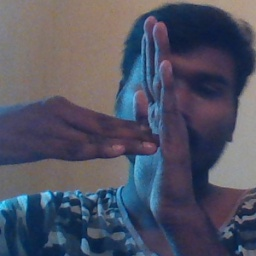Z: (76, 14, 200, 229)
